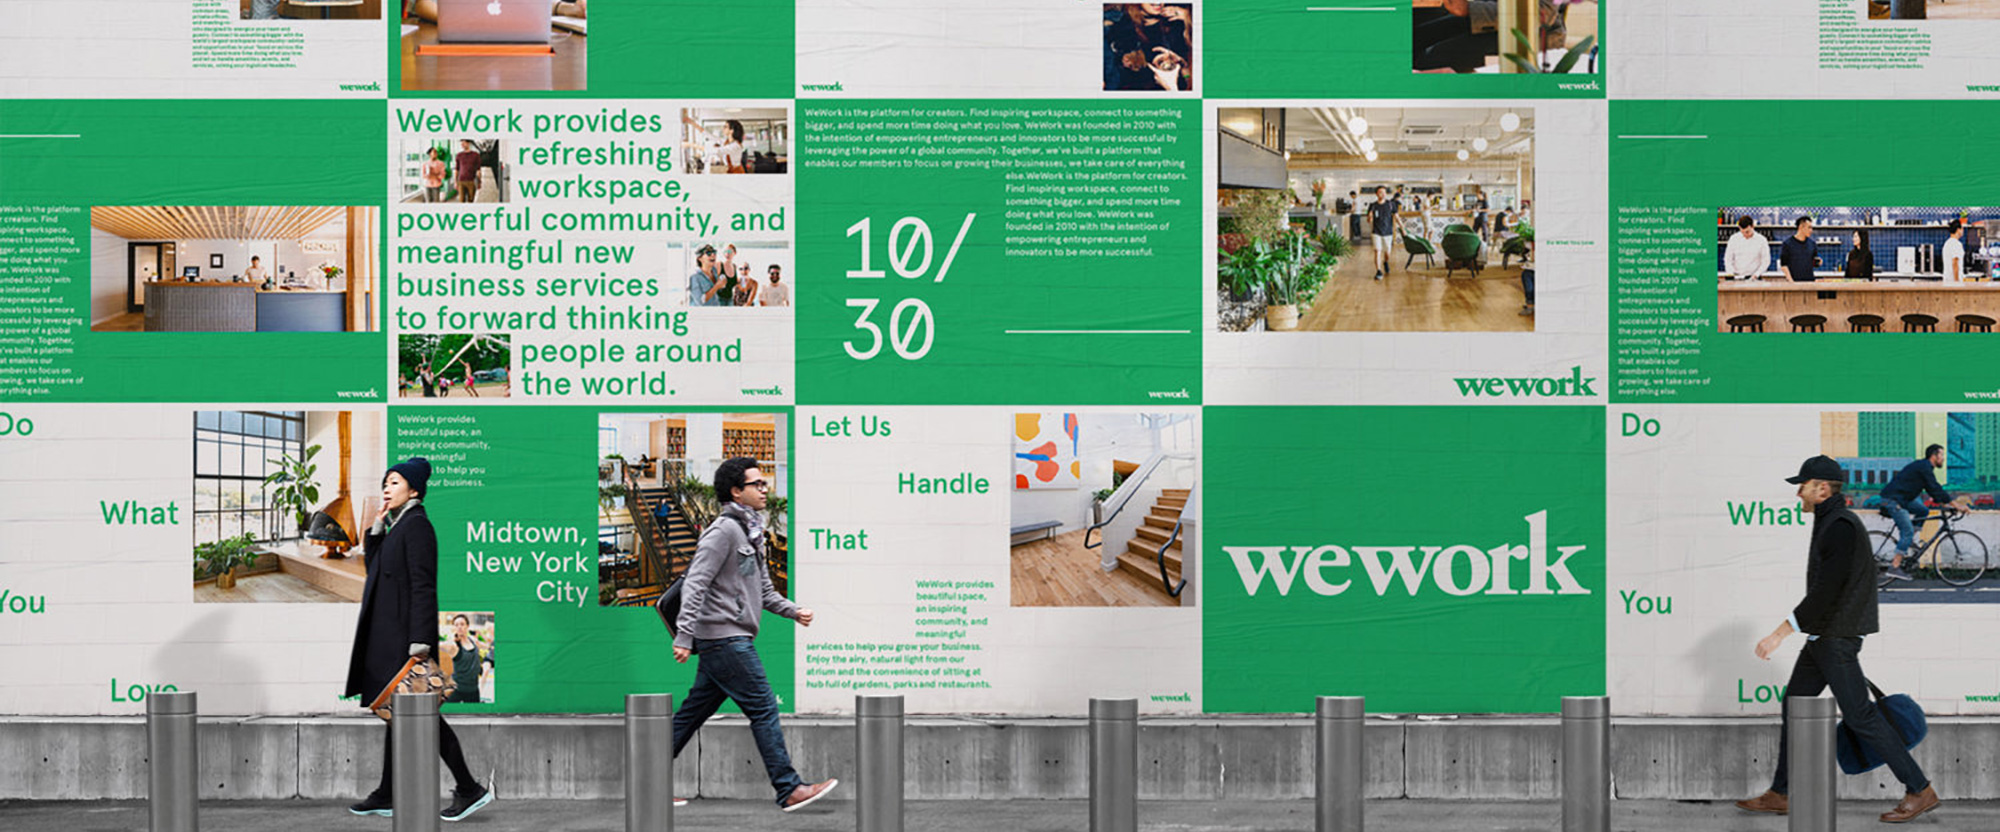wework: (1216, 501, 1596, 605), (1452, 361, 1599, 399)
